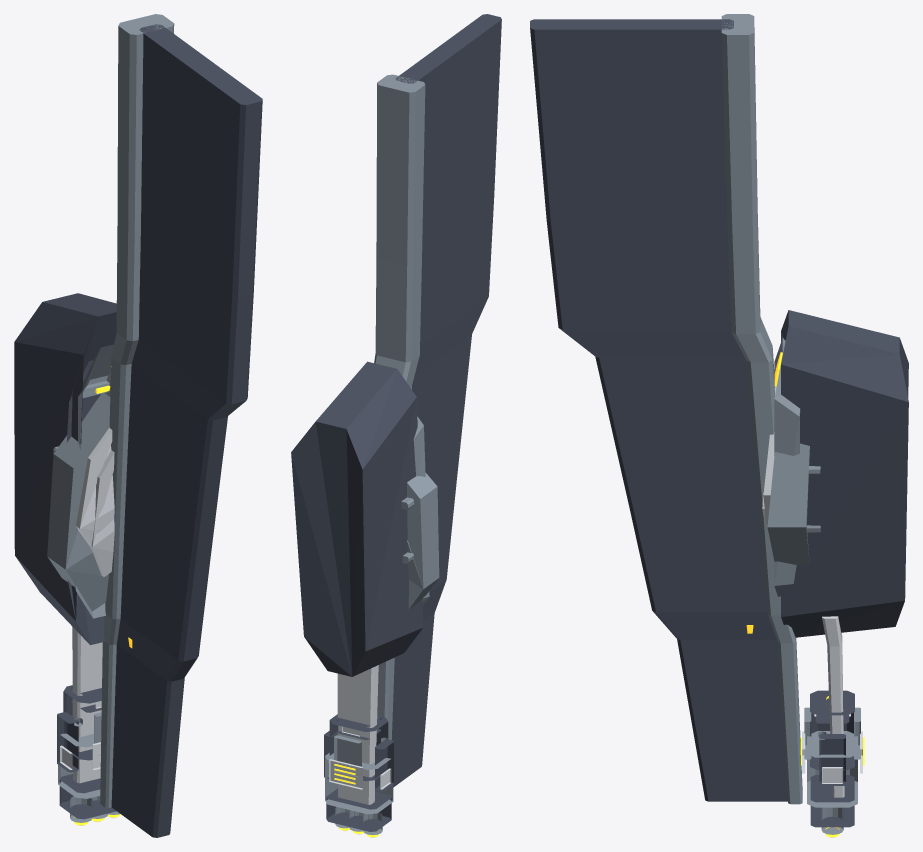
The model's file is LaserRepeaterArmW_Right_T1.glb.
3 renders of one model, left to right at view 1: azimuth 30°, elevation 25°; view 2: azimuth 150°, elevation 25°; view 3: azimuth 270°, elevation 25°, orthographic. The views are drawn at different scales.
Parts seen in each view (by area): view 1: BasicArmW_Right_Skel_part00, BasicArmW_Right_Skel_part01, Laser Repeater Receiver, BasicArmW_Right_Skel_part02, Laser Repeater Rails and Casing, Laser Repeater Accent; view 2: BasicArmW_Right_Skel_part00, BasicArmW_Right_Skel_part01, BasicArmW_Right_Skel_part02, Laser Repeater Receiver, Laser Repeater Rails and Casing, Laser Repeater Accent; view 3: BasicArmW_Right_Skel_part00, BasicArmW_Right_Skel_part01, Laser Repeater Receiver, Laser Repeater Rails and Casing, BasicArmW_Right_Skel_part02.
Part boxes in pixels (x1,y1,x2,y2): BasicArmW_Right_Skel_part00: (100,14,262,837); BasicArmW_Right_Skel_part01: (14,293,116,645); Laser Repeater Receiver: (57,685,116,819); BasicArmW_Right_Skel_part02: (72,627,132,783); Laser Repeater Rails and Casing: (58,712,119,822); Laser Repeater Accent: (60,701,116,825); BasicArmW_Right_Skel_part00: (374,14,501,787); BasicArmW_Right_Skel_part01: (291,361,439,676); BasicArmW_Right_Skel_part02: (337,665,378,804); Laser Repeater Receiver: (324,714,393,831); Laser Repeater Rails and Casing: (325,735,393,835); Laser Repeater Accent: (328,726,391,837); BasicArmW_Right_Skel_part00: (530,14,802,804); BasicArmW_Right_Skel_part01: (762,310,908,637); Laser Repeater Receiver: (810,690,854,827); Laser Repeater Rails and Casing: (804,707,860,834); BasicArmW_Right_Skel_part02: (746,616,844,797).
Size of the model in its own units: 2.19 by 15.35 by 6.55.
